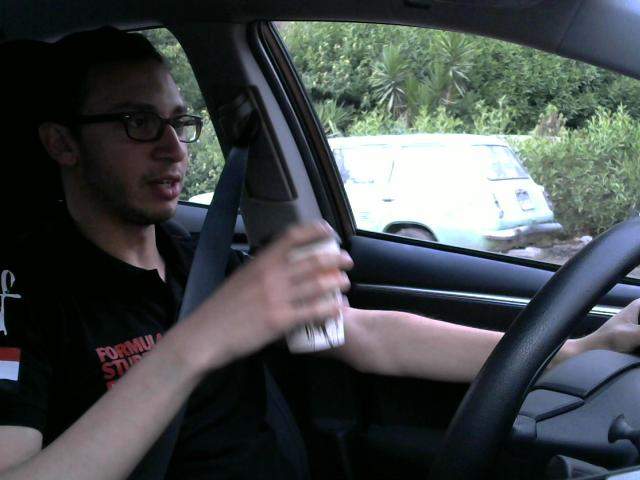Drinking: (256, 220, 354, 356)
